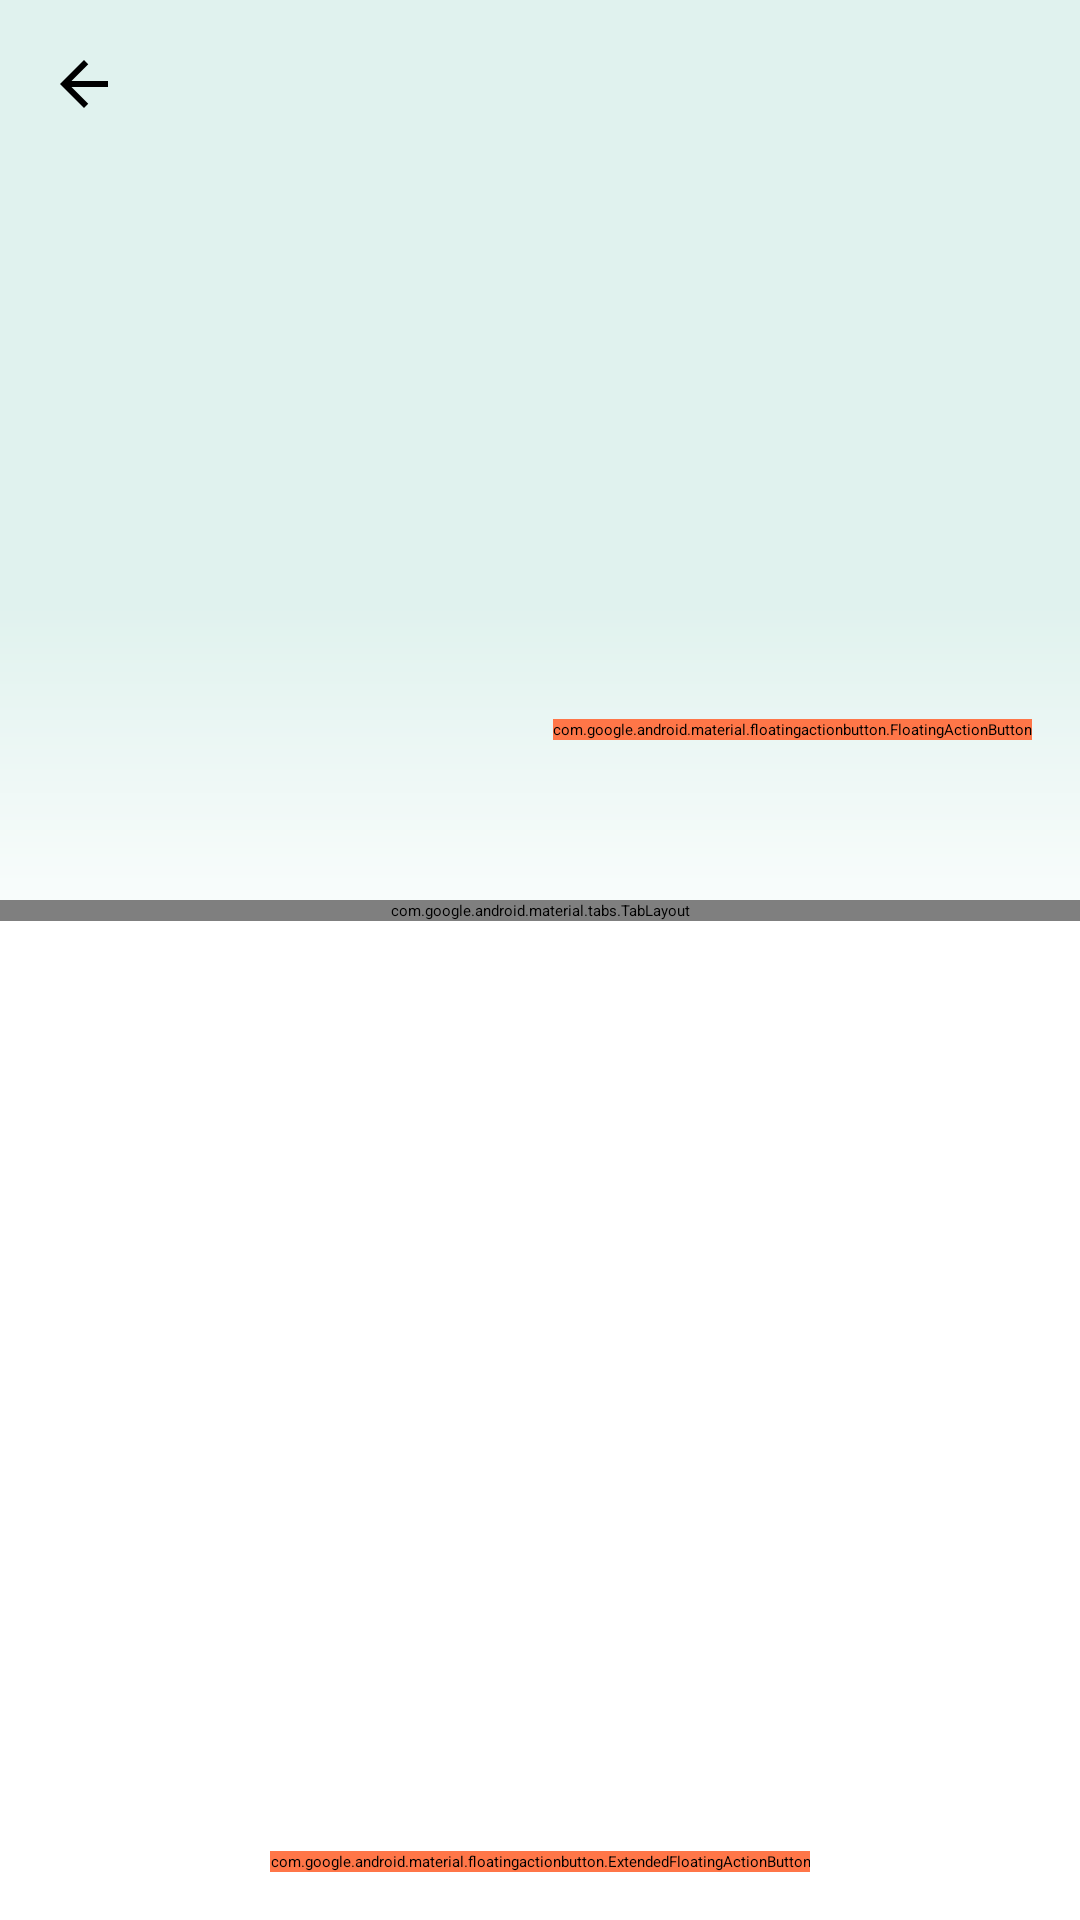

Icons on this 1080 x 1920 Android screen, each with its box as (x1,y1,x2,y2):
back button: (60,60,108,108)
